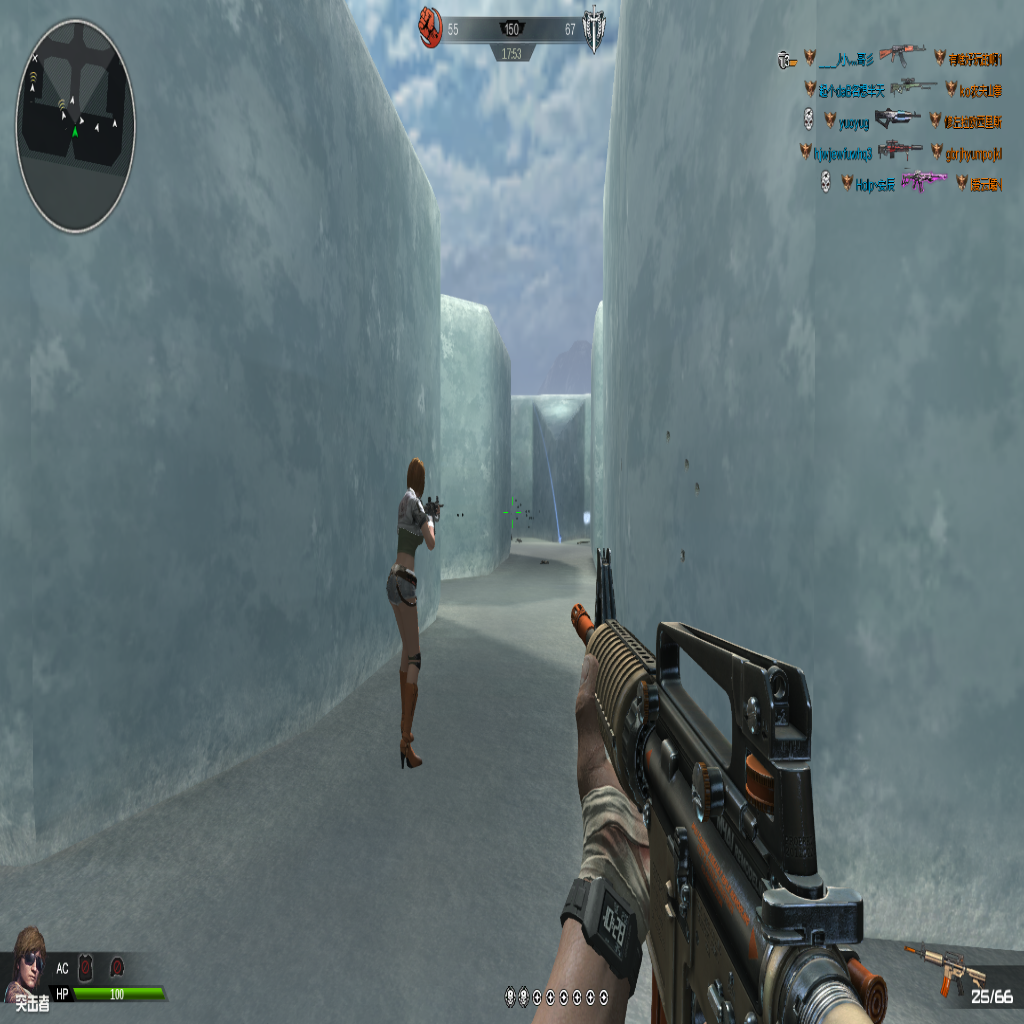tt: (387, 451, 440, 779)
